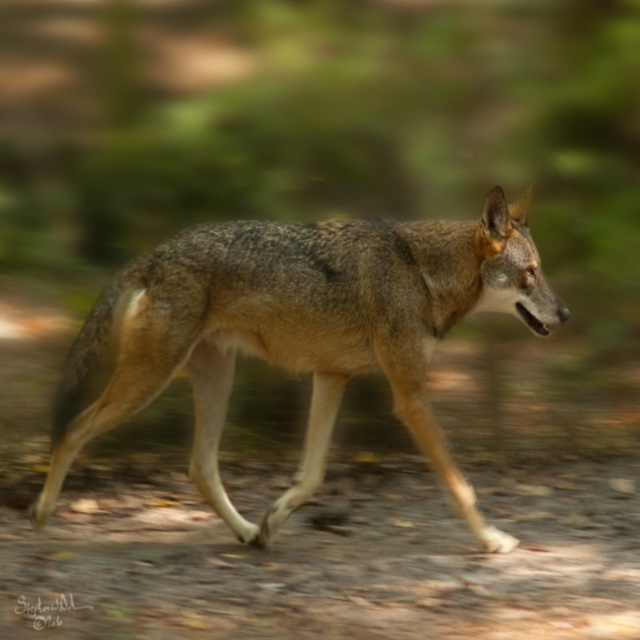Fox: (27, 178, 571, 556)
